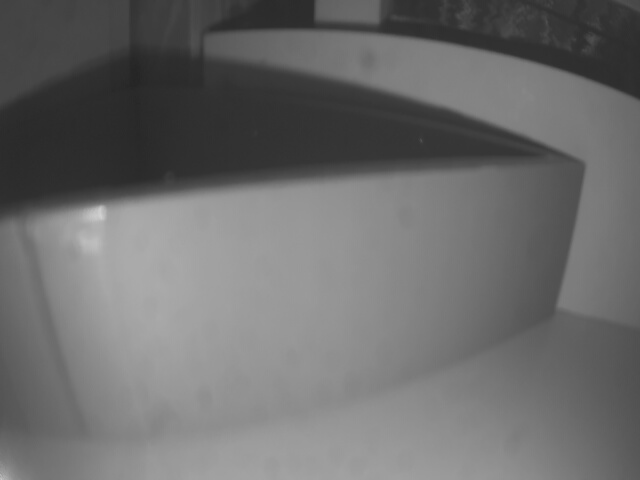Point: (0, 164, 588, 438)
